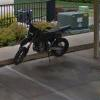Motorcycle: (12, 17, 76, 70)
